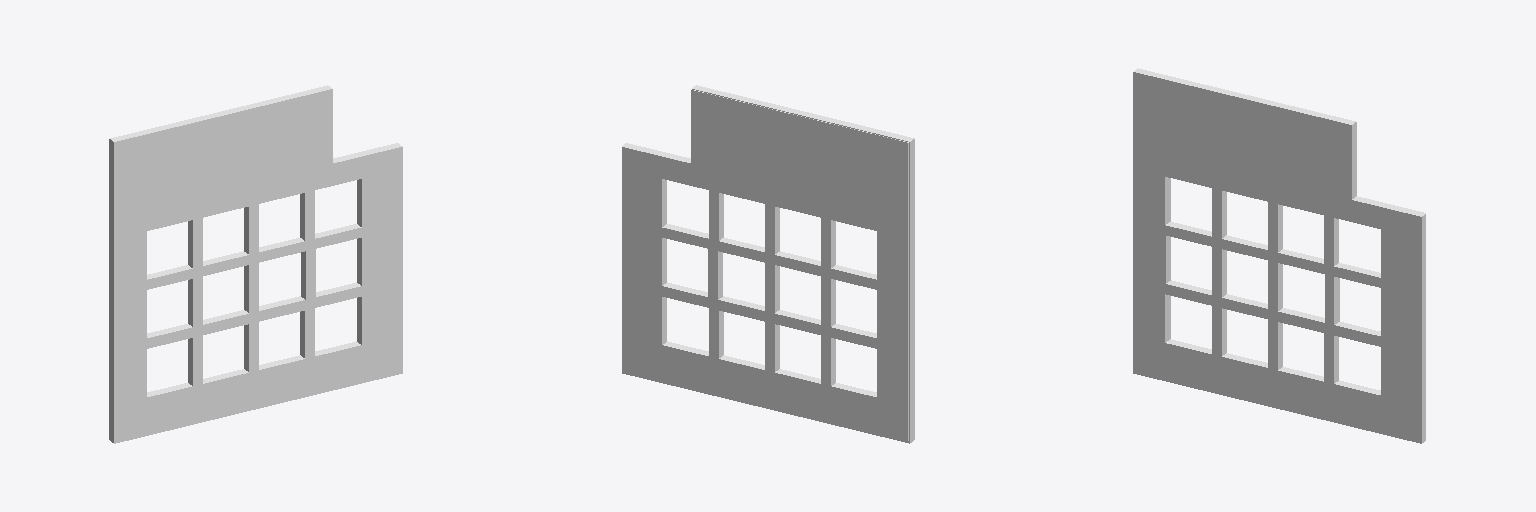
File: tinker.obj
3 views of the same model, side by side, from view 1: azimuth 30°, elevation 25°; view 2: azimuth 150°, elevation 25°; view 3: azimuth 330°, elevation 25° (orthographic).
Parts seen in each view (by area): view 1: obj_0; view 2: obj_0; view 3: obj_0.
Boxes of the visible parts, <box> form: obj_0: <box>109,85,402,443</box>; obj_0: <box>622,85,914,443</box>; obj_0: <box>1133,68,1425,443</box>.
Size of the model in its own units: 97.68 by 97.68 by 3.